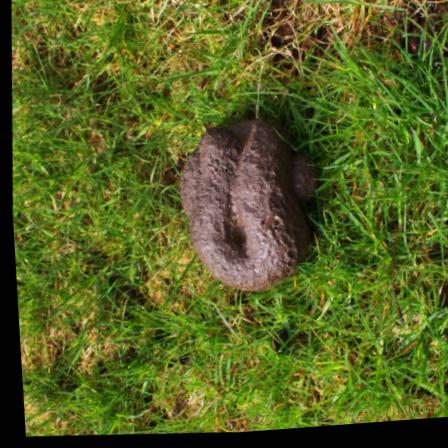dog-poop: (164, 110, 326, 302)
